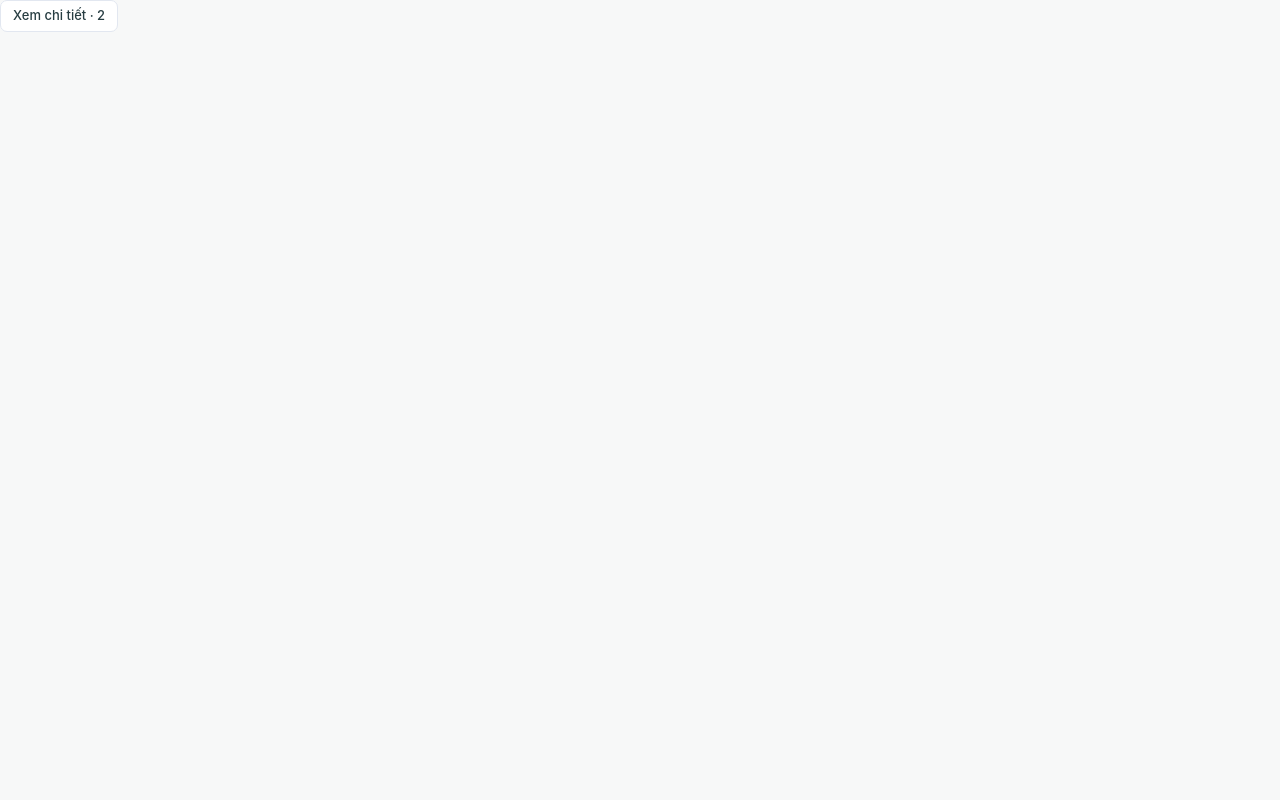
it: excludes linked quality warnings from both counts while retaining cue chips
The image size is (1280, 800).
Click the button "Xem chi tiết · 2": (59, 16) [0,0,118,32]
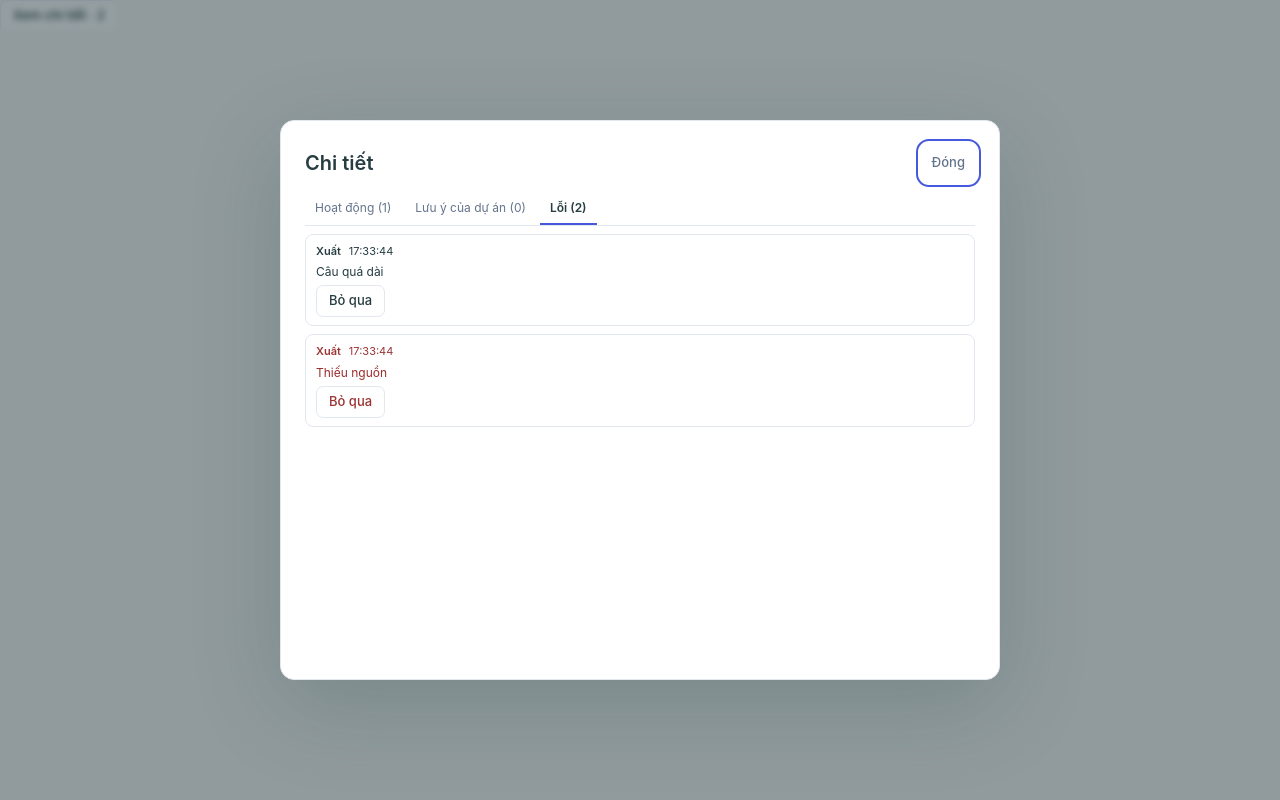
Result: the tab "Lỗi (2)" is shown at [540,192,597,224]
